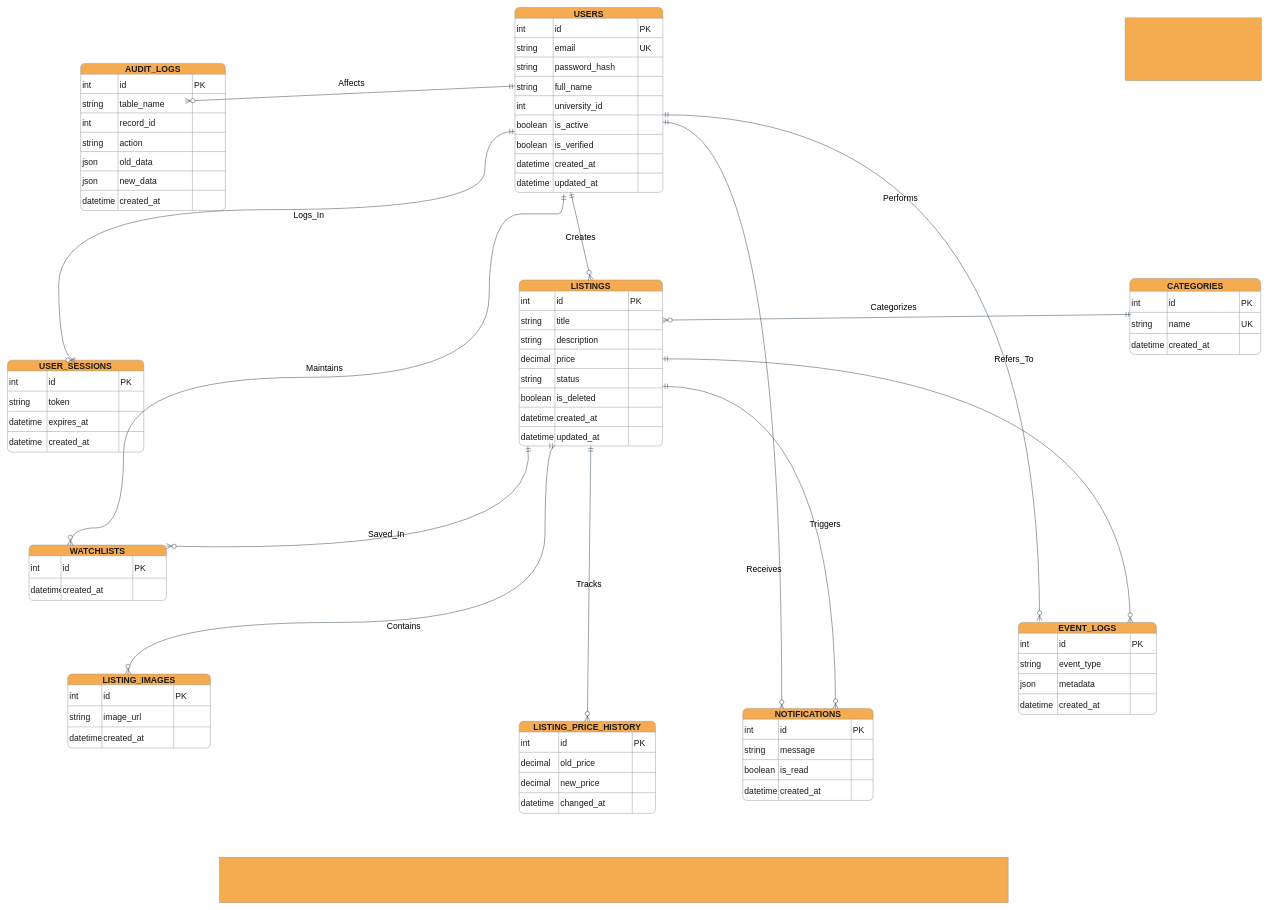
This 1269x910 diagram has some shape labels left out. The shapes that lost their labels are listed below. From the top down, each one's centre as x and y in pixels, then its label:
point (1193, 49): UK refers to "Unique" PK refers to "Primary Key" FK refers to "Foreign Key"
point (613, 880): Entity Relationship Diagram (ERD) for Campus Market AI
